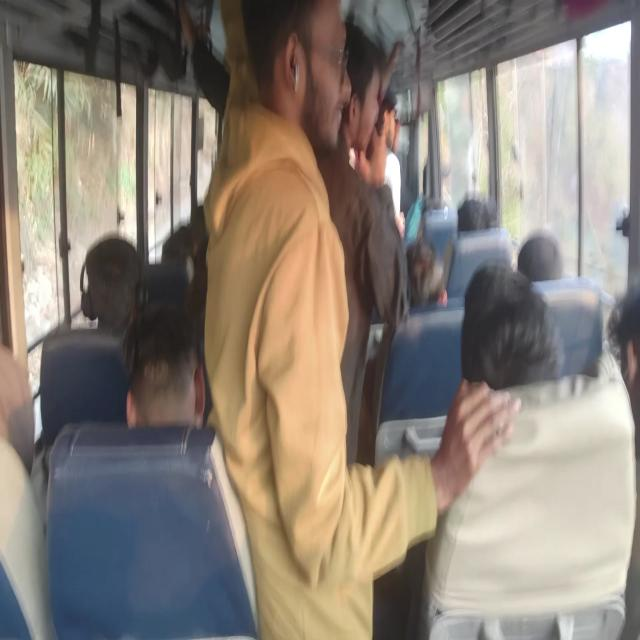person: (458, 262, 561, 394), (269, 0, 350, 157), (123, 300, 204, 430), (81, 236, 141, 334), (606, 283, 640, 394), (516, 230, 564, 282), (406, 240, 443, 305), (162, 218, 203, 268), (456, 197, 496, 233)
